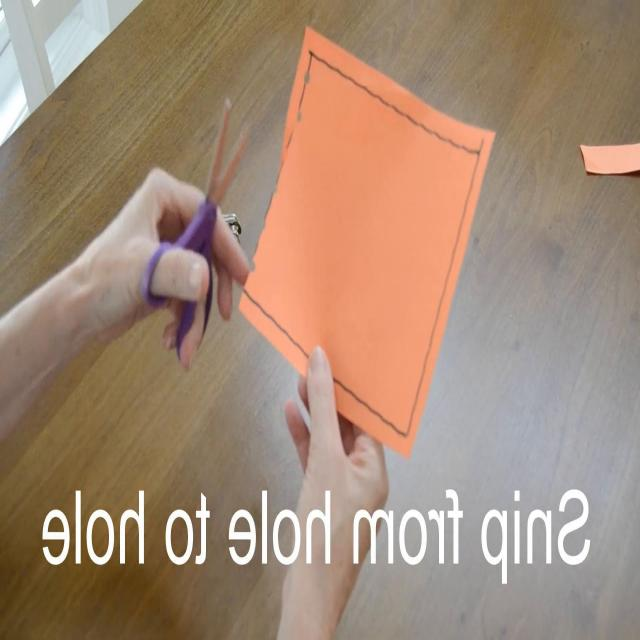scissor: (142, 98, 248, 360)
